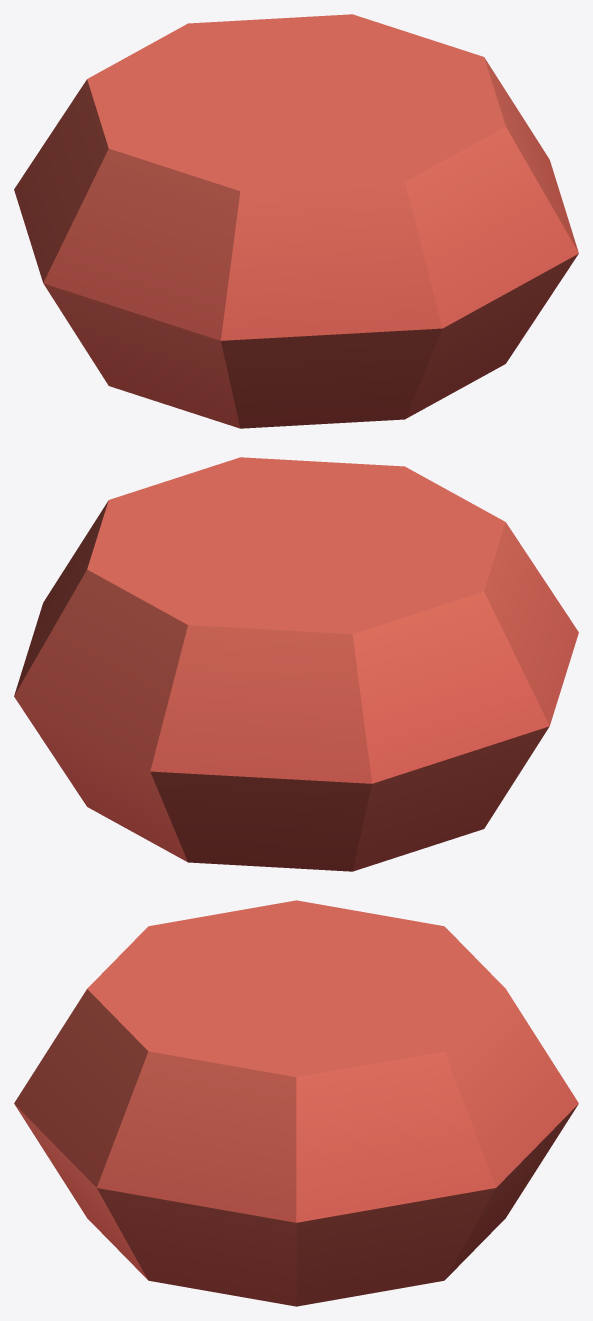
Rendered from Diamond_01.fbx.
3 renders of one model, top to bottom at view 1: azimuth 30°, elevation 25°; view 2: azimuth 150°, elevation 25°; view 3: azimuth 270°, elevation 25°, orthographic. The views are drawn at different scales.
Parts seen in each view (by area): view 1: Diamond_01; view 2: Diamond_01; view 3: Diamond_01.
Boxes of the visible parts, x1,y1,x2,y2 form: Diamond_01: (14,14,578,428); Diamond_01: (14,457,578,871); Diamond_01: (14,900,578,1306).
Size of the model in its own units: 0.1492 by 0.0668 by 0.1492.
